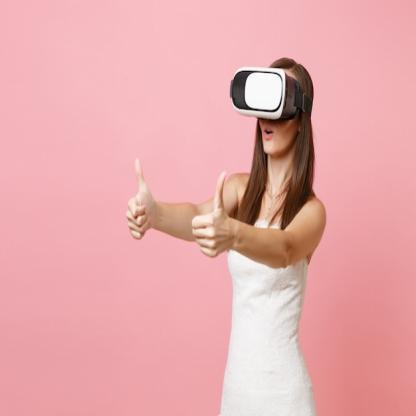thumb_up: (191, 166, 233, 264), (120, 153, 156, 242)
